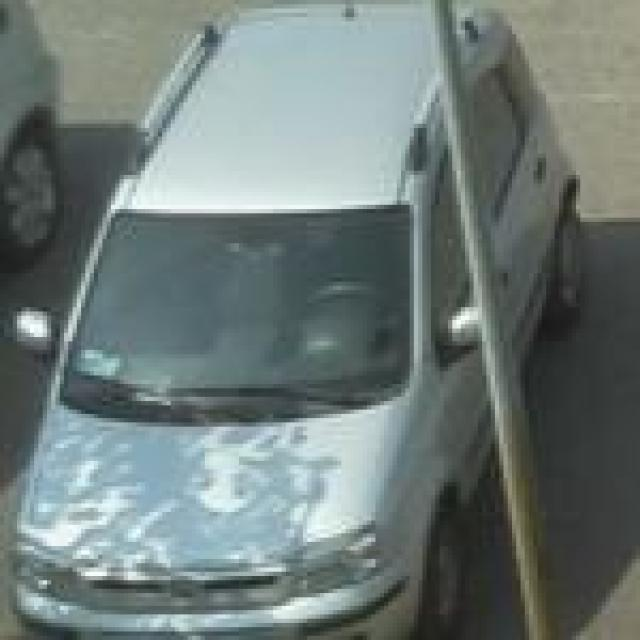cars-sUYr: (7, 3, 596, 640)
